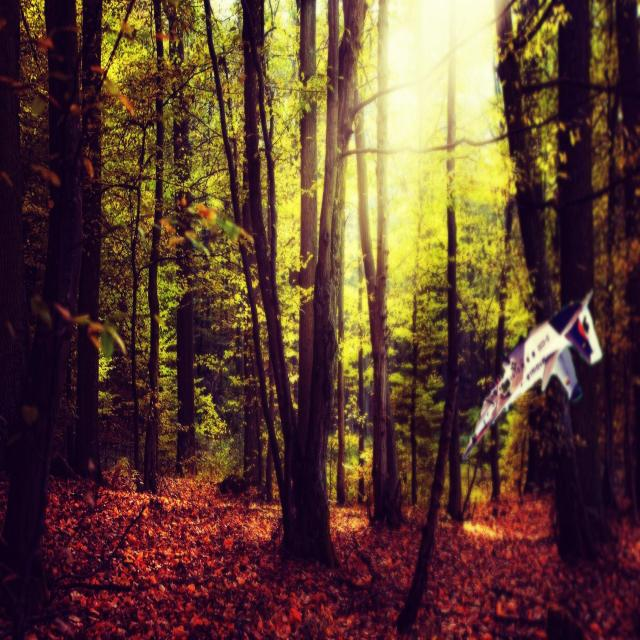airplane: (460, 288, 603, 463)
